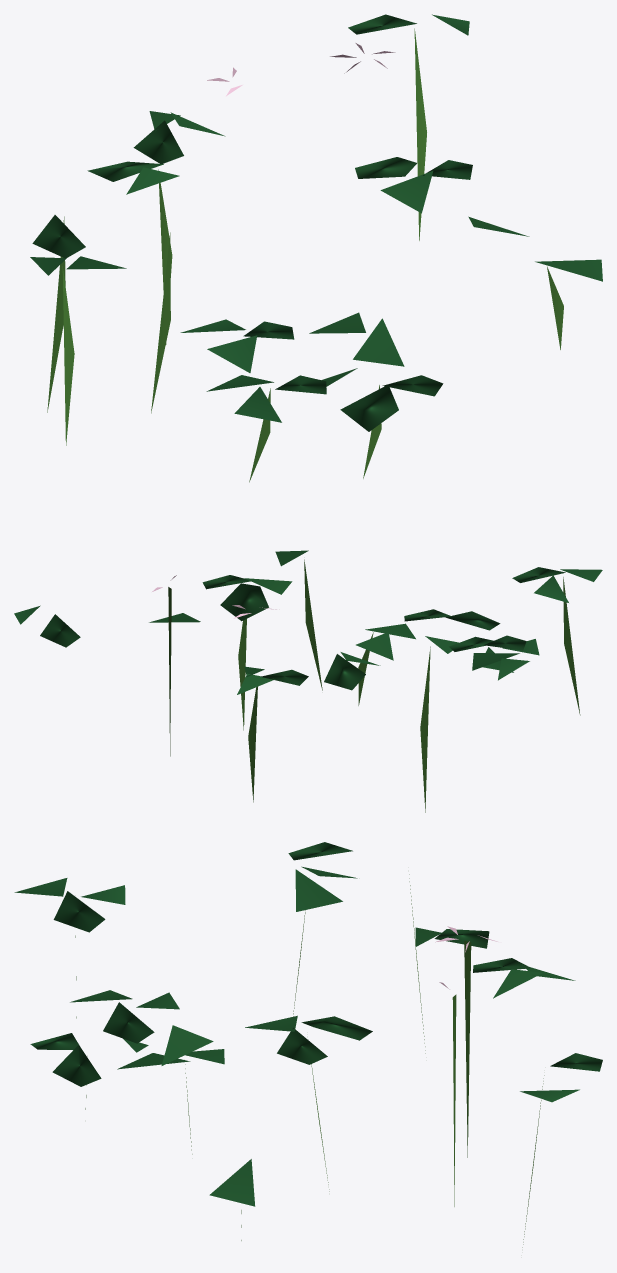
The model's file is canopy_gc_oxalis_b_lod2.glb.
The picture shows the model from 3 angles, top to bottom: view 1: azimuth 30°, elevation 25°; view 2: azimuth 150°, elevation 25°; view 3: azimuth 270°, elevation 25°; orthographic projection. The views are drawn at different scales.
Parts seen in each view (by area): view 1: canopy_gc_oxalis_b.001; view 2: canopy_gc_oxalis_b.001; view 3: canopy_gc_oxalis_b.001.
Part boxes in pixels (box(x1,y1,x2,y2)): canopy_gc_oxalis_b.001: box(30, 14, 602, 482); canopy_gc_oxalis_b.001: box(14, 550, 602, 812); canopy_gc_oxalis_b.001: box(14, 842, 602, 1247).
Size of the model in its own units: 3.62 by 1.42 by 3.34.
